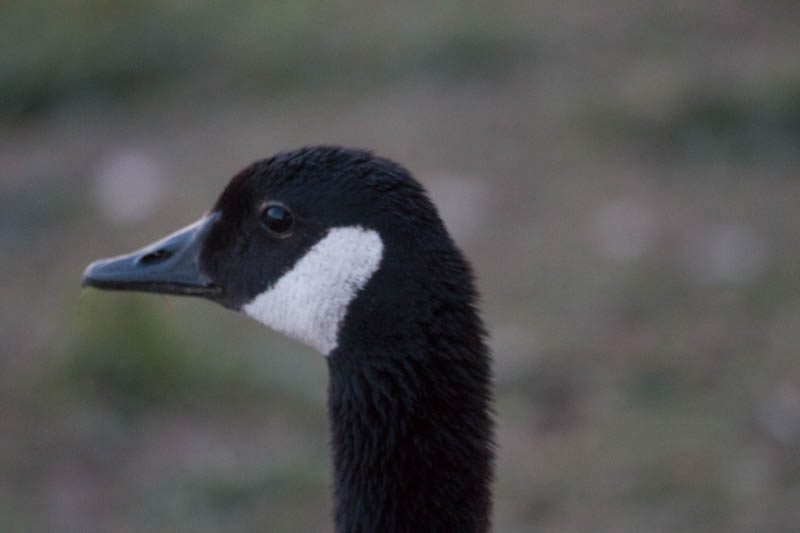goose-head: (79, 146, 474, 358)
